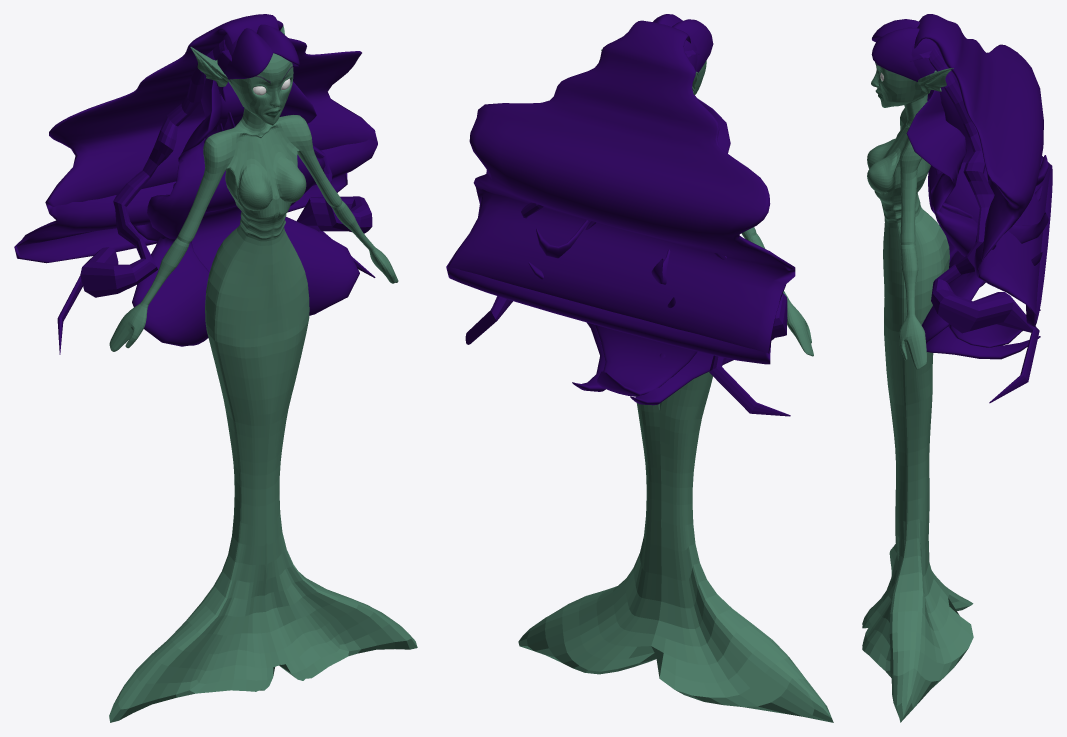
The model's file is mer maid.fbx.
3 renders of one model, left to right at view 1: azimuth 30°, elevation 25°; view 2: azimuth 150°, elevation 25°; view 3: azimuth 270°, elevation 25°, orthographic. The views are drawn at different scales.
Visible parts, largest first — view 1: body, ht-lg-01mesh.004, ht-lg-01mesh.002, ht-md-01mesh.001, ht-lg-01mesh.001, ht-lg-01mesh.003, body.001, ht-lg-01mesh.005; view 2: ht-lg-01mesh.004, body, ht-lg-01mesh.001, ht-md-01mesh.001, ht-lg-01mesh.002, ht-lg-01mesh.003; view 3: body, ht-lg-01mesh.004, ht-lg-01mesh.002, ht-md-01mesh.001, ht-lg-01mesh.003, ht-lg-01mesh.005, ht-lg-01mesh.001, body.001.
Boxes of the visible parts, x1,y1,x2,y2 form: body: (109, 26, 417, 722); ht-lg-01mesh.004: (14, 14, 377, 263); ht-lg-01mesh.002: (132, 80, 359, 346); ht-md-01mesh.001: (57, 39, 375, 354); ht-lg-01mesh.001: (191, 82, 244, 271); ht-lg-01mesh.003: (173, 24, 299, 187); body.001: (257, 473, 284, 690); ht-lg-01mesh.005: (134, 34, 238, 241); ht-lg-01mesh.004: (446, 20, 795, 364); body: (518, 49, 833, 722); ht-lg-01mesh.001: (595, 325, 697, 396); ht-md-01mesh.001: (465, 50, 790, 416); ht-lg-01mesh.002: (572, 95, 774, 405); ht-lg-01mesh.003: (536, 14, 713, 284); body: (862, 62, 973, 722); ht-lg-01mesh.004: (914, 14, 1052, 326); ht-lg-01mesh.002: (906, 90, 1040, 359); ht-md-01mesh.001: (909, 48, 1039, 403); ht-lg-01mesh.003: (871, 19, 1048, 243); ht-lg-01mesh.005: (911, 38, 1042, 265); ht-lg-01mesh.001: (928, 165, 1022, 347); body.001: (864, 448, 970, 628).
Size of the model in its own units: 102 by 195 by 53.58.
